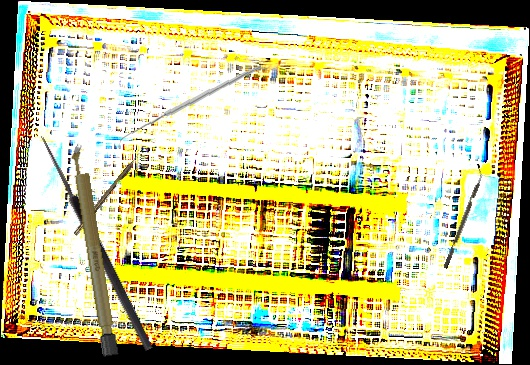Chopper: (438, 168, 487, 269)
Hook Surgical: (25, 133, 156, 357), (119, 56, 261, 157), (72, 152, 143, 236)
Scalpel Handle: (69, 141, 120, 358)
